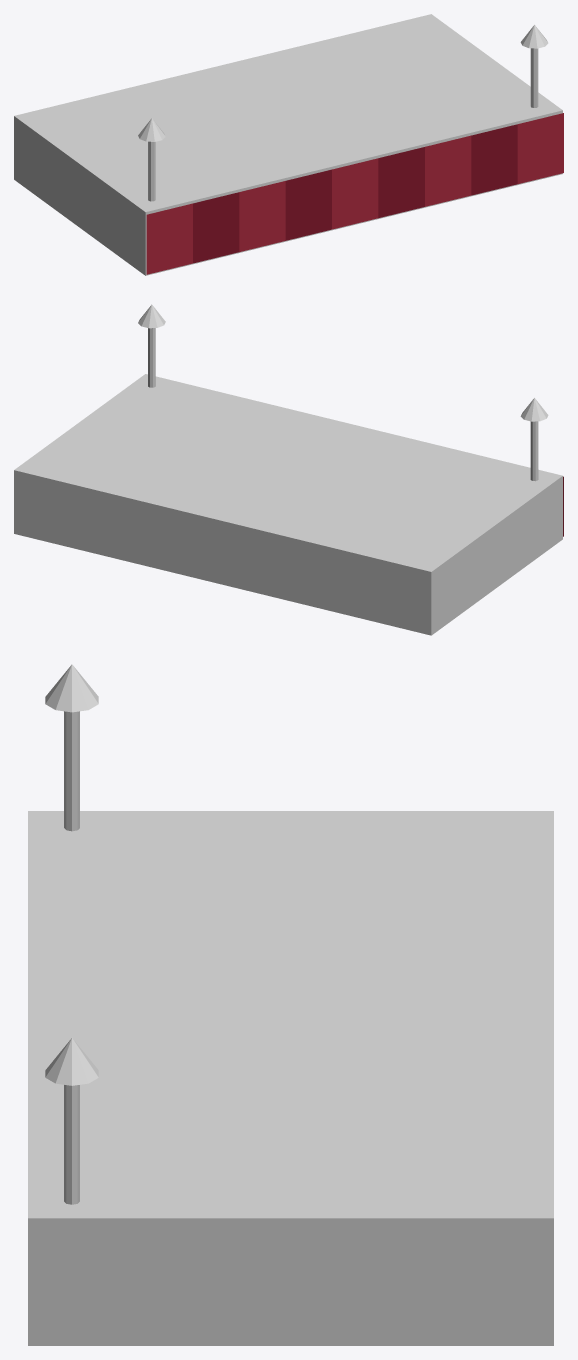
Rendered from stage.glb.
3 renders of one model, top to bottom at view 1: azimuth 30°, elevation 25°; view 2: azimuth 150°, elevation 25°; view 3: azimuth 270°, elevation 25°, orthographic. The views are drawn at different scales.
Visible parts, largest first — view 1: stage; view 2: stage; view 3: stage.
Boxes of the visible parts, <box> form: stage: <box>14,14,563,275</box>; stage: <box>14,304,563,635</box>; stage: <box>28,664,553,1345</box>.
Size of the model in its own units: 5.52 by 1.84 by 3.04.
